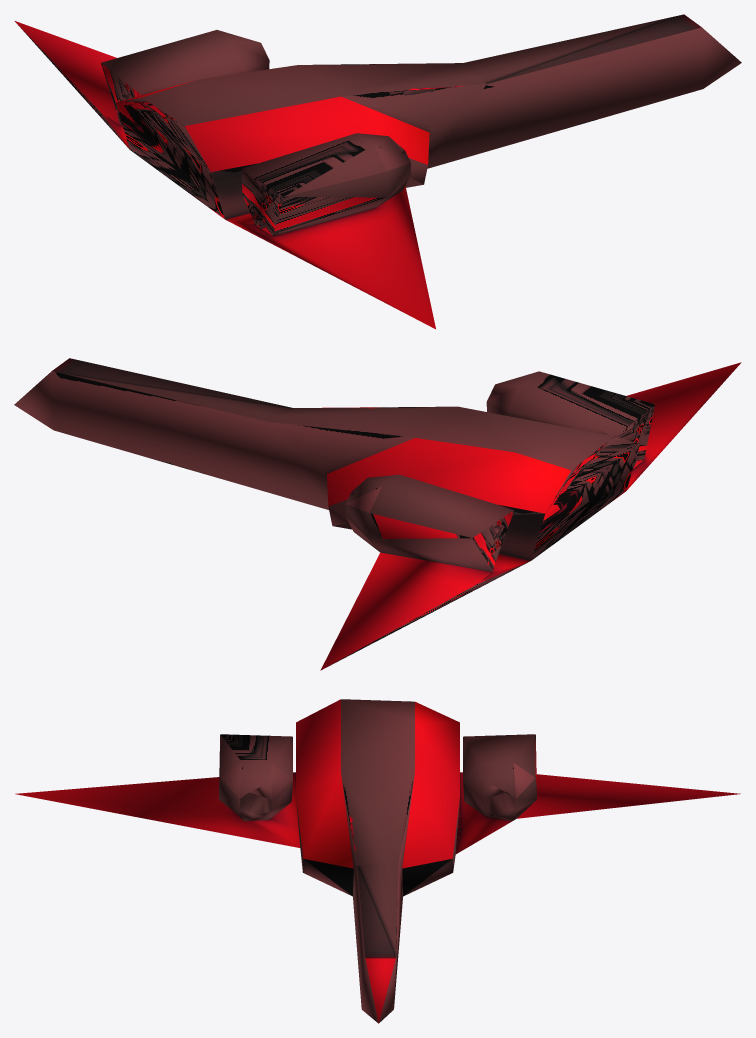
3 renders of one model, top to bottom at view 1: azimuth 30°, elevation 25°; view 2: azimuth 150°, elevation 25°; view 3: azimuth 270°, elevation 25°, orthographic. The views are drawn at different scales.
Parts seen in each view (by area): view 1: Sam; view 2: Sam; view 3: Sam.
Part boxes in pixels (x1=…): Sam: x1=14, y1=14, x2=741, y2=329; Sam: x1=14, y1=358, x2=741, y2=670; Sam: x1=15, y1=699, x2=740, y2=1023.
Size of the model in its own units: 88.71 by 16.12 by 112.
1 material, 1 textured.
